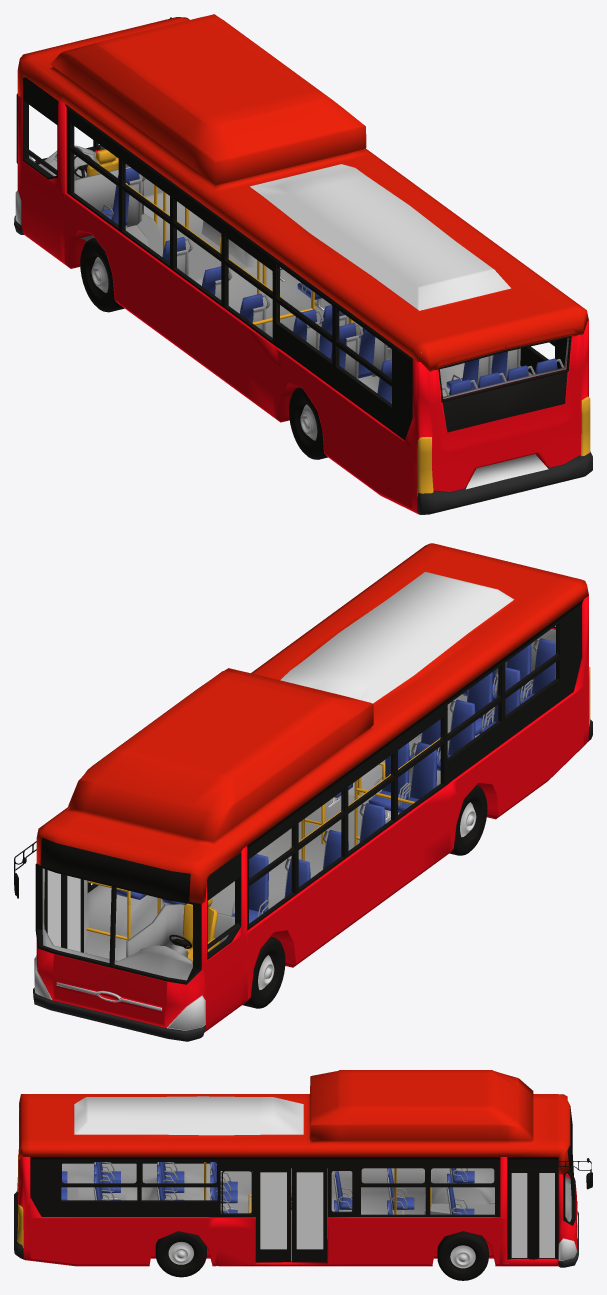
File: bus.glb
The picture shows the model from 3 angles, top to bottom: view 1: azimuth 30°, elevation 25°; view 2: azimuth 150°, elevation 25°; view 3: azimuth 270°, elevation 25°; orthographic projection. The views are drawn at different scales.
Visible parts, largest first — view 1: 참고창문.001, Cube.010, Cube.013; view 2: 참고창문.001, Cube.007 (×8), Cube.010, Cube.009; view 3: 참고창문.001, Cube.010, Cube.007 (×4), Cube.
Part boxes in pixels (<box>): 참고창문.001: <box>14,14,592,514</box>; Cube.010: <box>71,124,391,381</box>; Cube.013: <box>438,335,571,402</box>; 참고창문.001: <box>14,543,592,1041</box>; Cube.007 (×8): <box>231,638,555,923</box>; Cube.010: <box>249,624,558,881</box>; Cube.009: <box>182,898,220,962</box>; 참고창문.001: <box>14,1070,592,1280</box>; Cube.010: <box>61,1161,494,1214</box>; Cube.007 (×4): <box>210,1162,474,1214</box>; Cube: <box>424,1194,494,1214</box>.
Size of the model in its own units: 0.93 by 1.23 by 3.89.
Materials: 8 (1 with a texture image).
